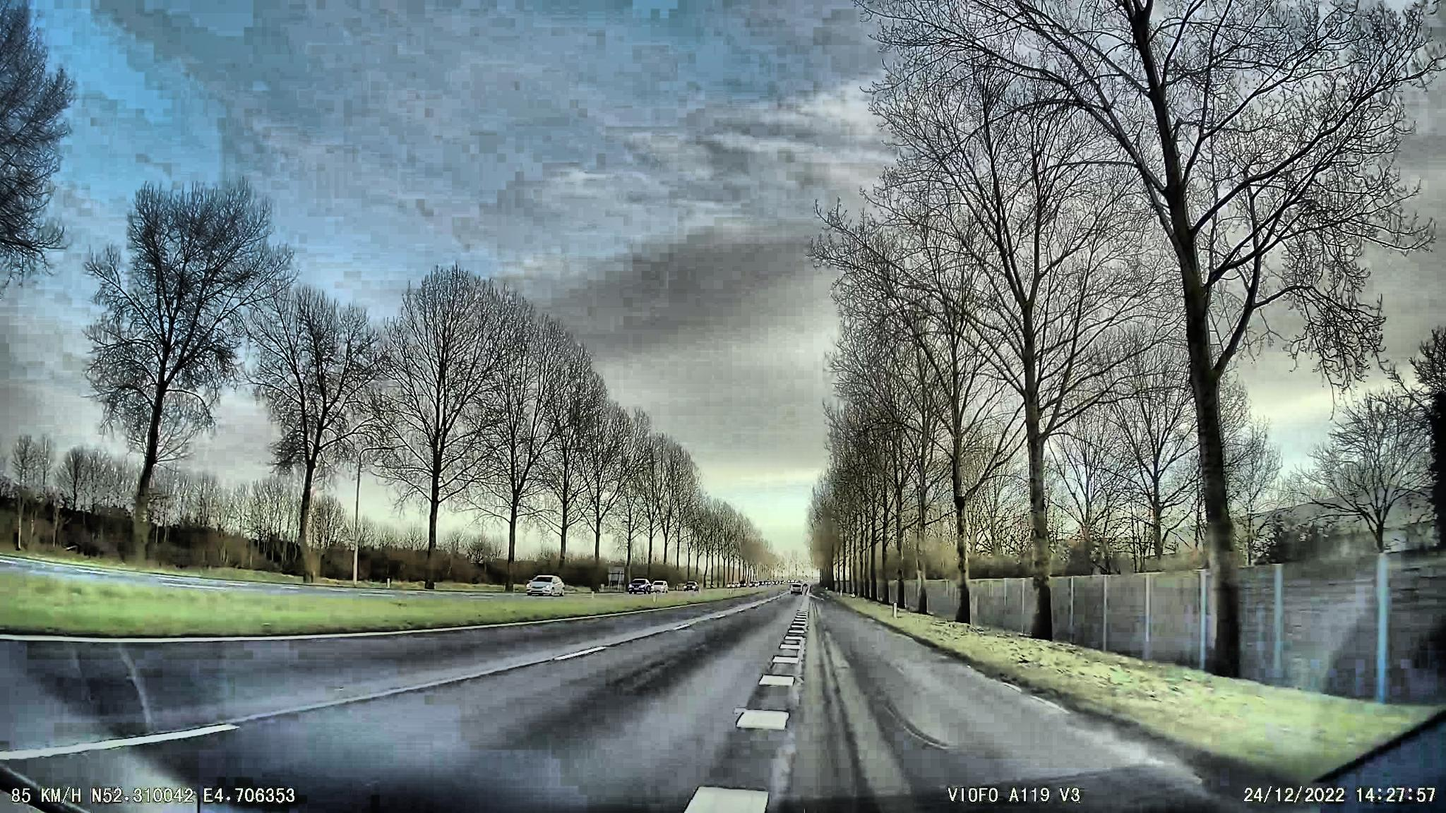Roads: (0, 589, 1247, 813)
